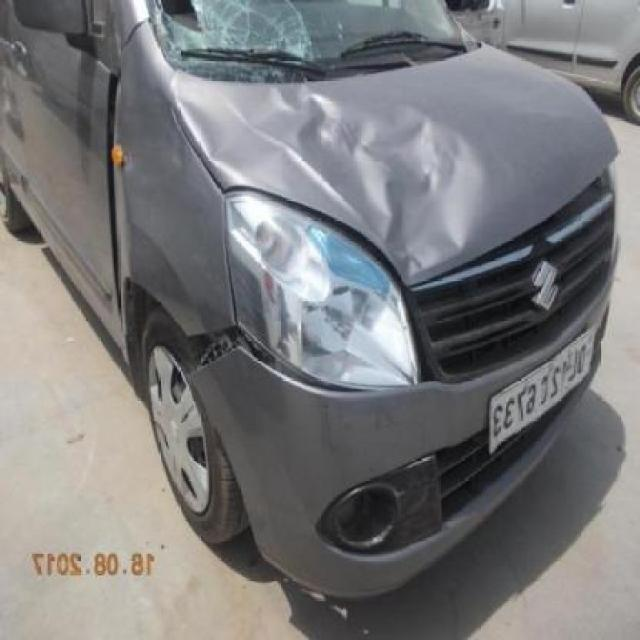damage: (173, 70, 481, 276), (405, 152, 621, 291), (181, 324, 381, 401), (137, 0, 314, 79), (105, 74, 122, 338)
